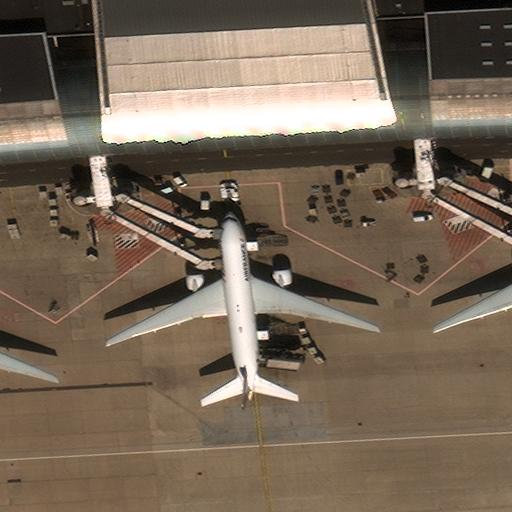Large Civil Transport: (107, 211, 377, 409), (432, 243, 512, 366), (0, 330, 54, 408)
